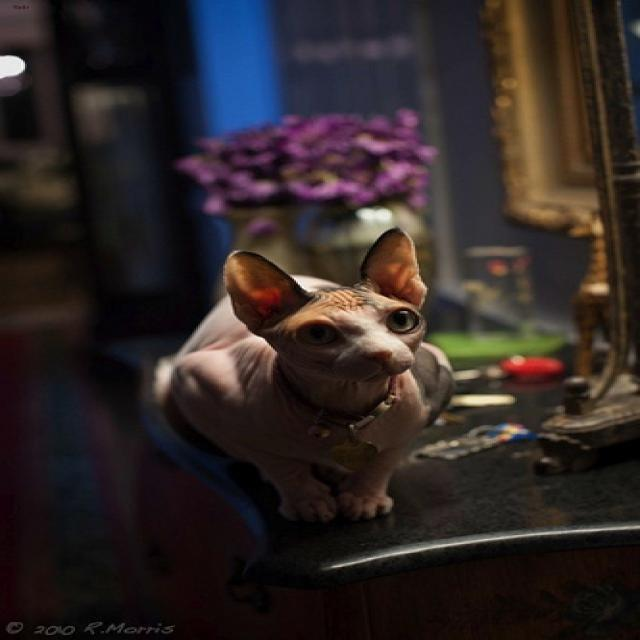Sphynx: (225, 217, 434, 398)
